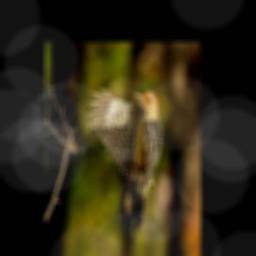Woodpecker: (88, 88, 163, 230)
